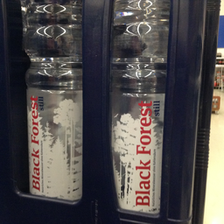water: (110, 1, 169, 218), (20, 1, 83, 203)
